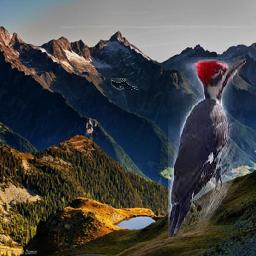Crow: (112, 78, 139, 90)
Woodpecker: (168, 57, 246, 237)
